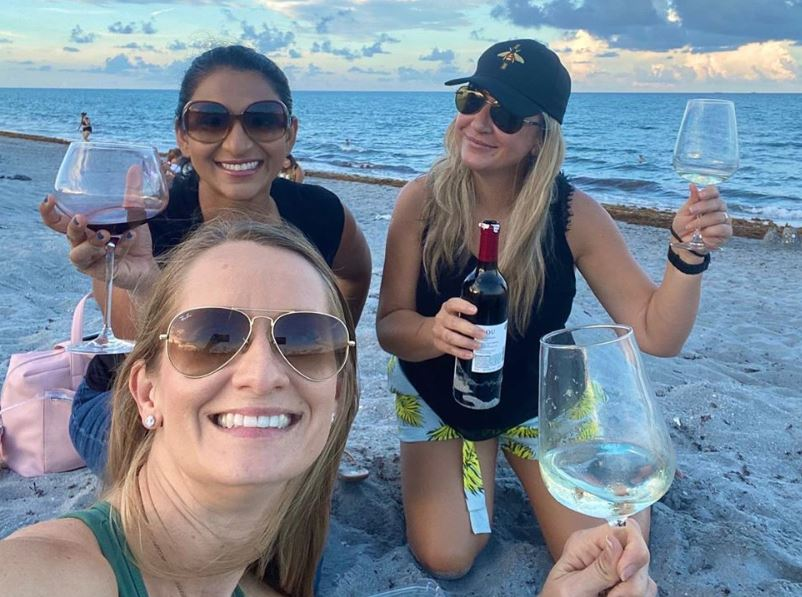Bad: (1, 47, 372, 597), (174, 38, 612, 224)
